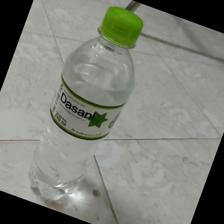Dasani: (28, 7, 144, 209)
